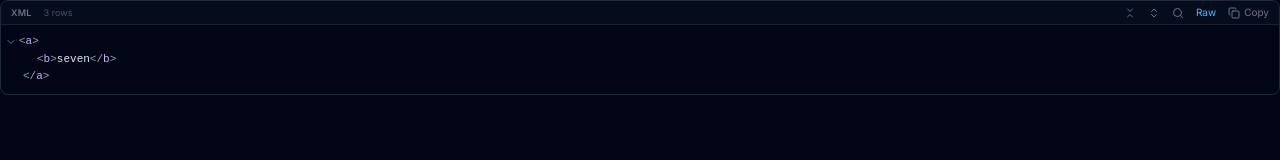
Scenario: ValueView: an XML value › folds an element
The image size is (1280, 160).
Step 1. Click the button named "Fold" → {"x": 11, "y": 42}, box [5,36,17,48]
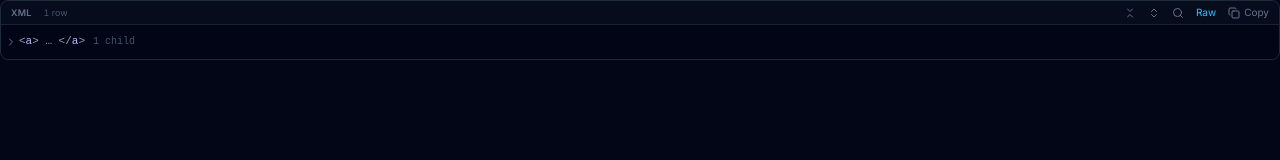
Result: the text "seven" is gone
Result: the text "1 child" is shown at [93,36,135,47]
